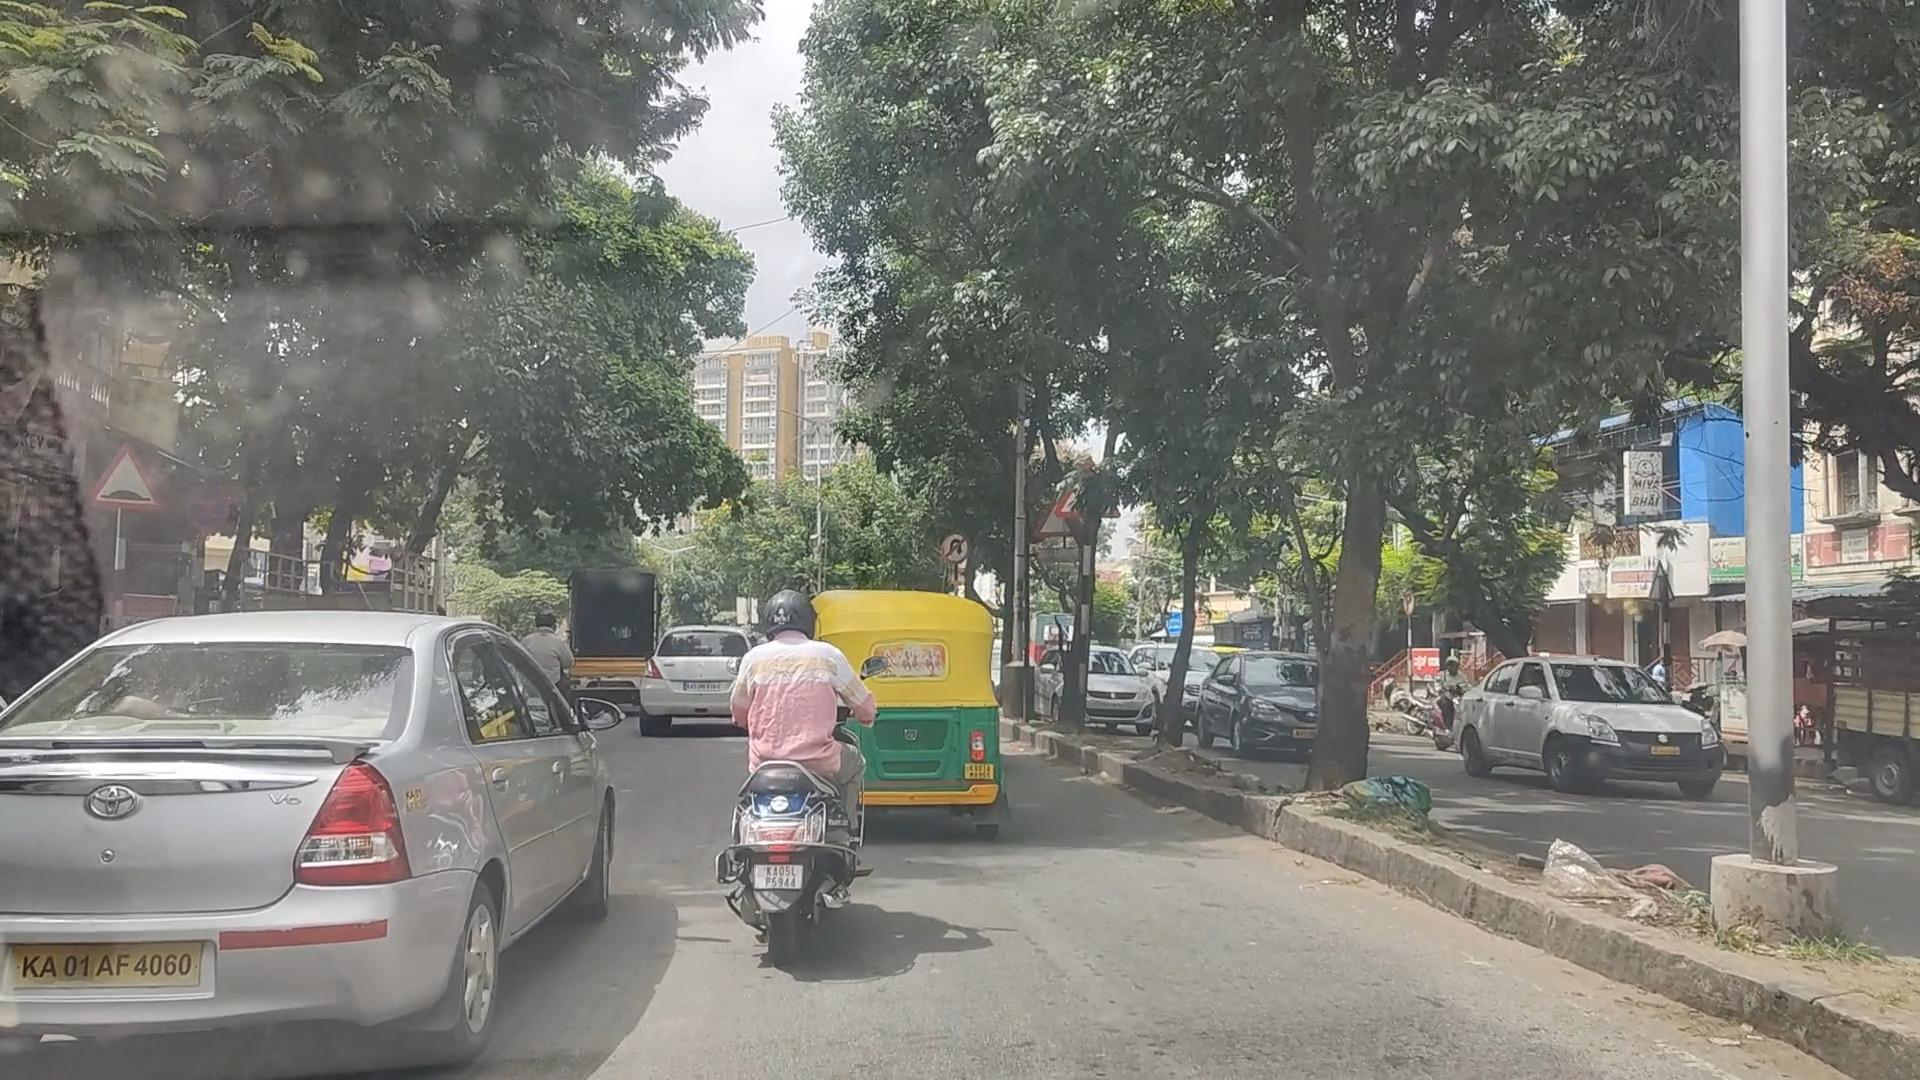LMV: (37, 630, 626, 1068), (720, 587, 860, 960), (820, 587, 1006, 833)
